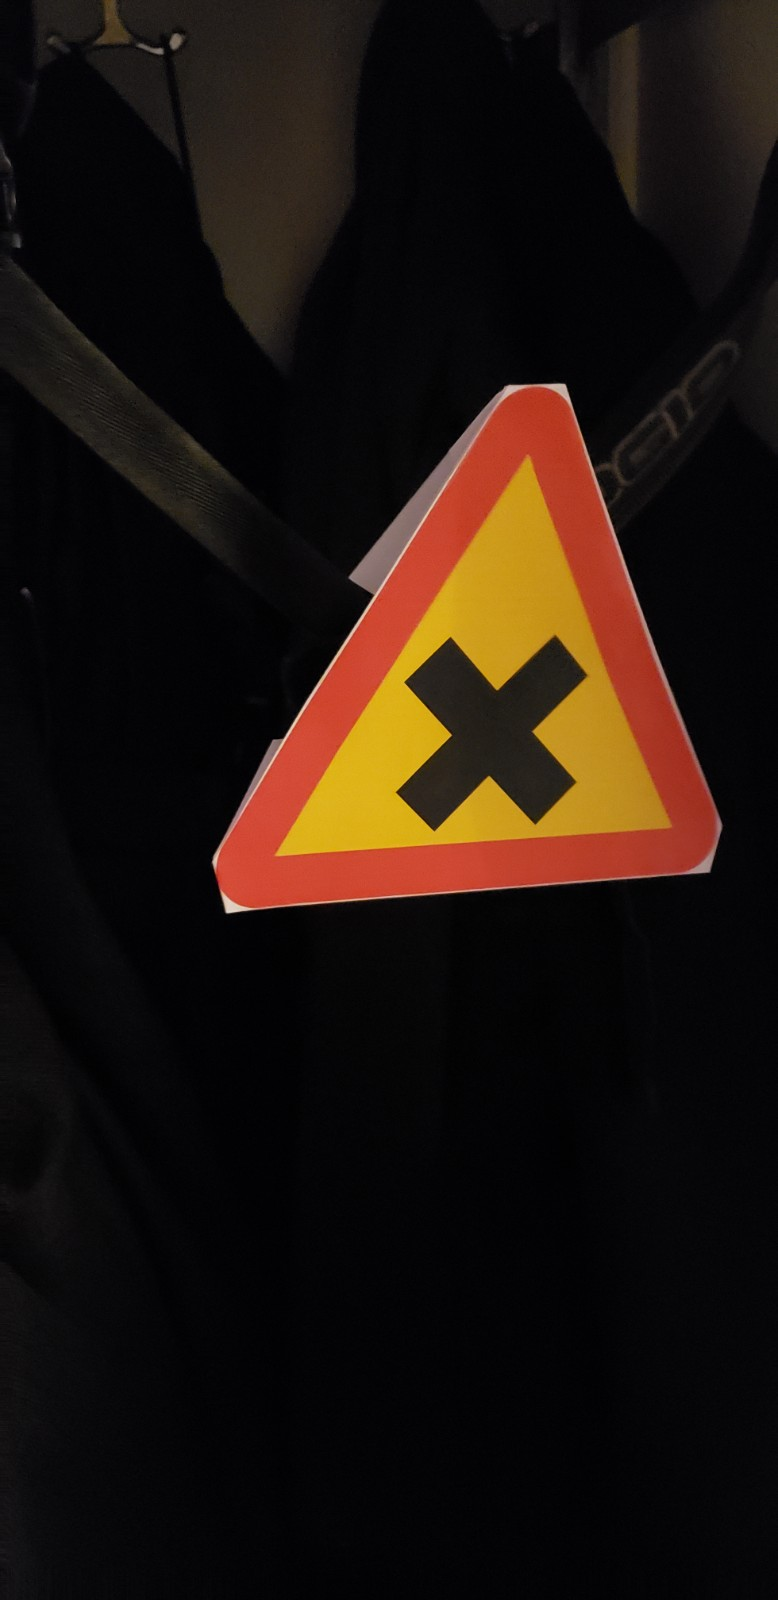junction: (121, 345, 751, 940)
